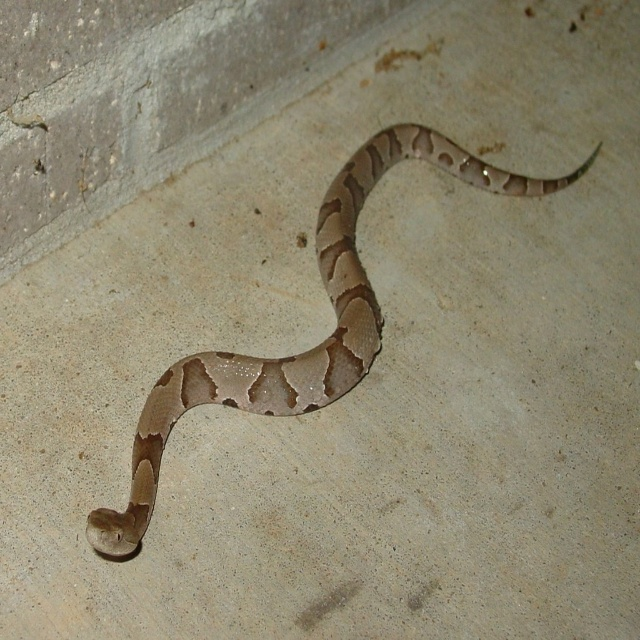Snake: (84, 123, 602, 553)
